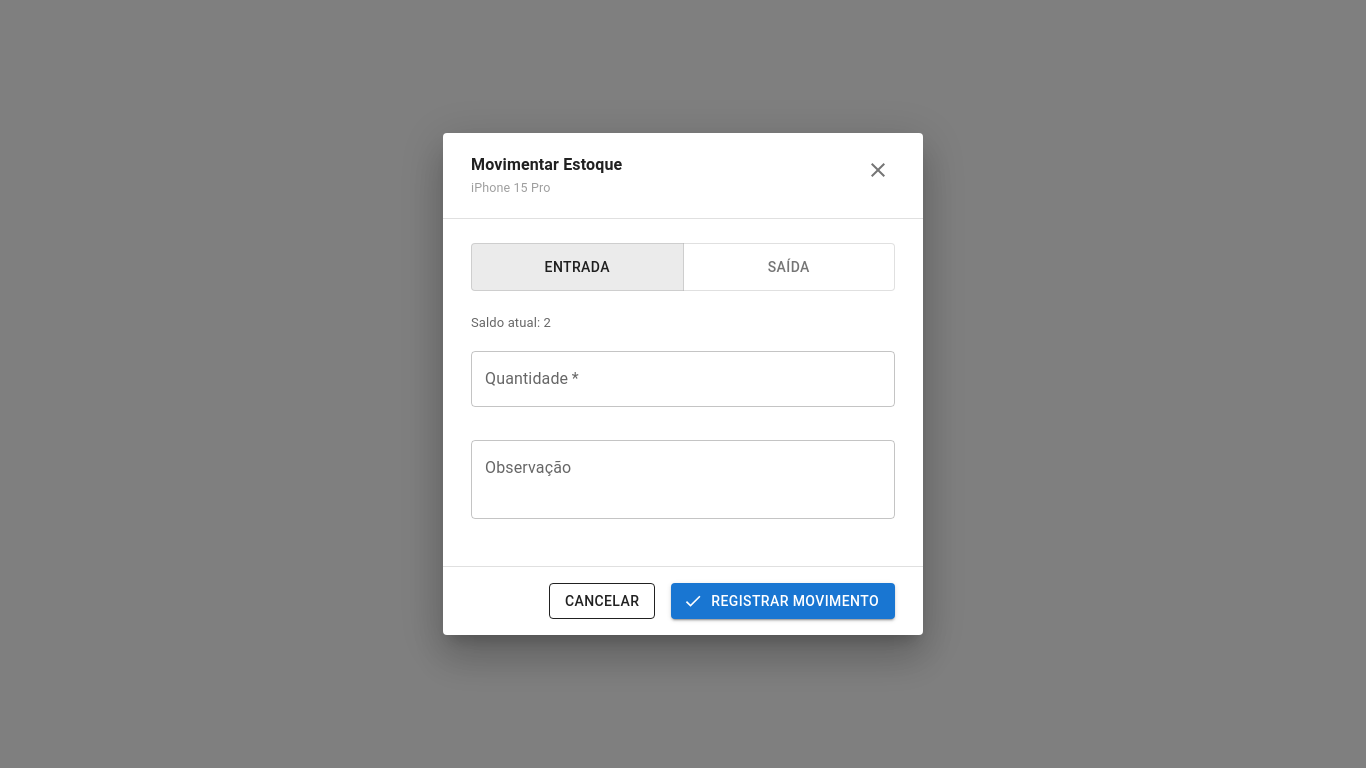
Scenario: StockMovementModal › não envia quantidade -3: precisa ser inteiro maior que zero
Type "-3" into the number field labelled "Quantidade *" at coordinates (683, 379), box [471,351,895,407]
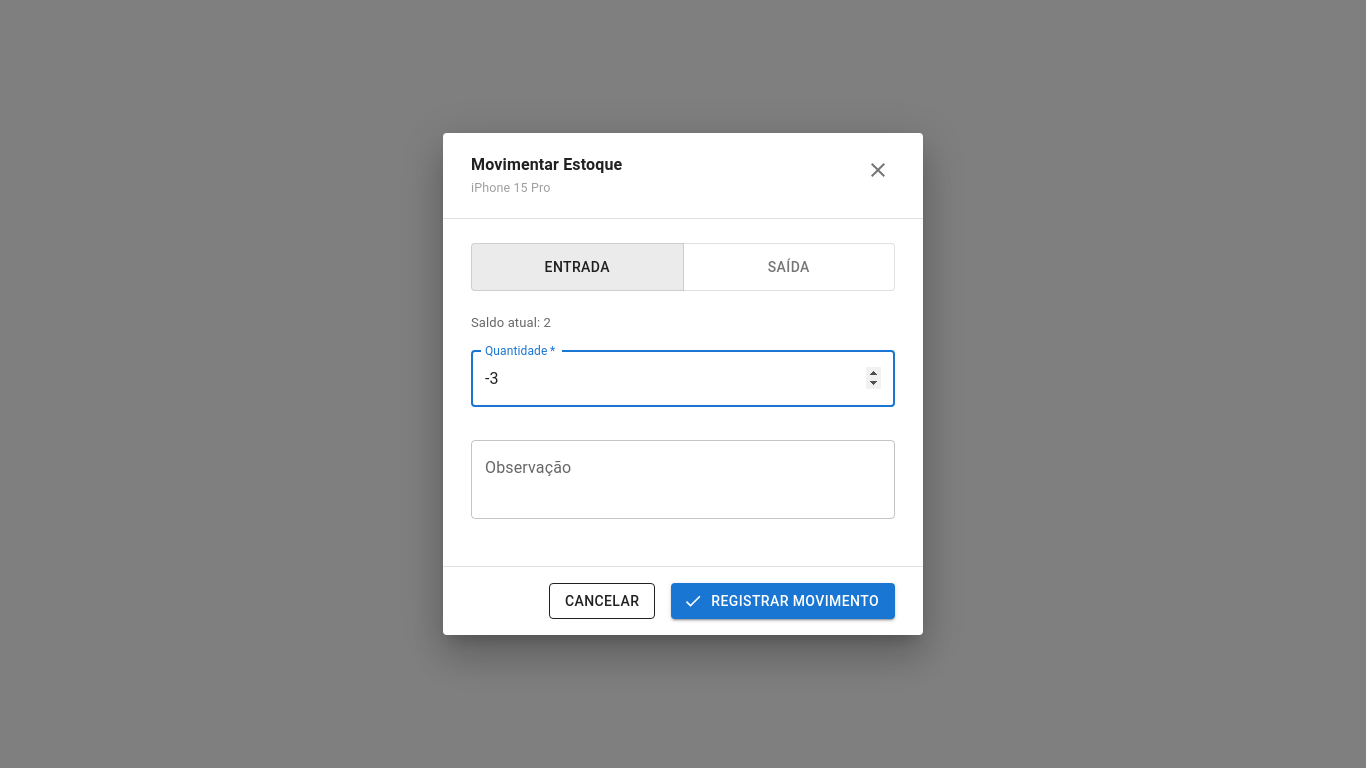
Click the button "Registrar movimento" at coordinates (783, 601), box [671,582,895,619]
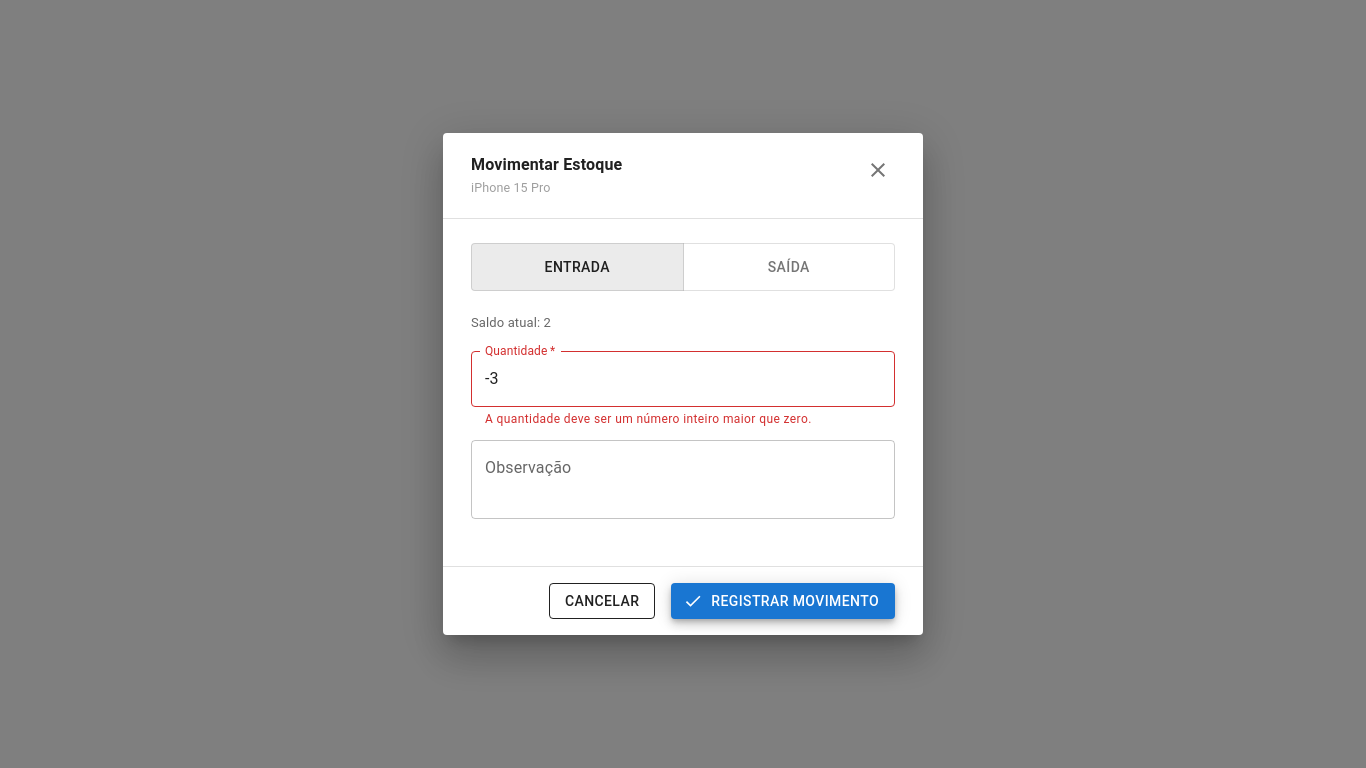
Check: the text "A quantidade deve ser um número inteiro maior que zero." is shown, box [485,412,812,426]
